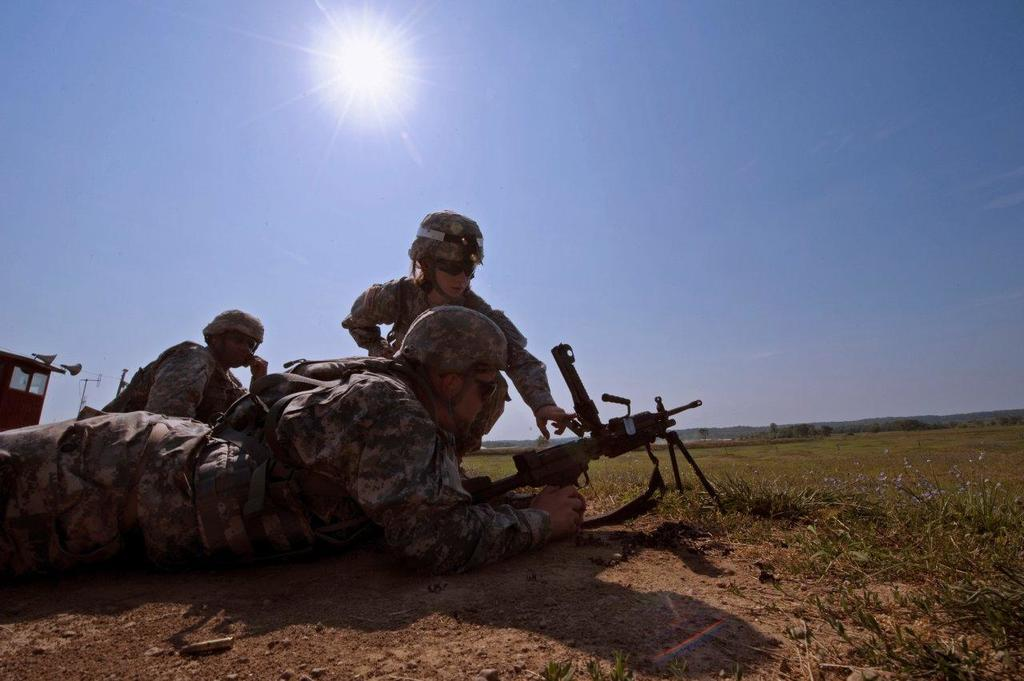non-violence: (0, 305, 584, 580), (342, 210, 578, 437), (90, 308, 268, 426)
weapon: (476, 353, 727, 534)
